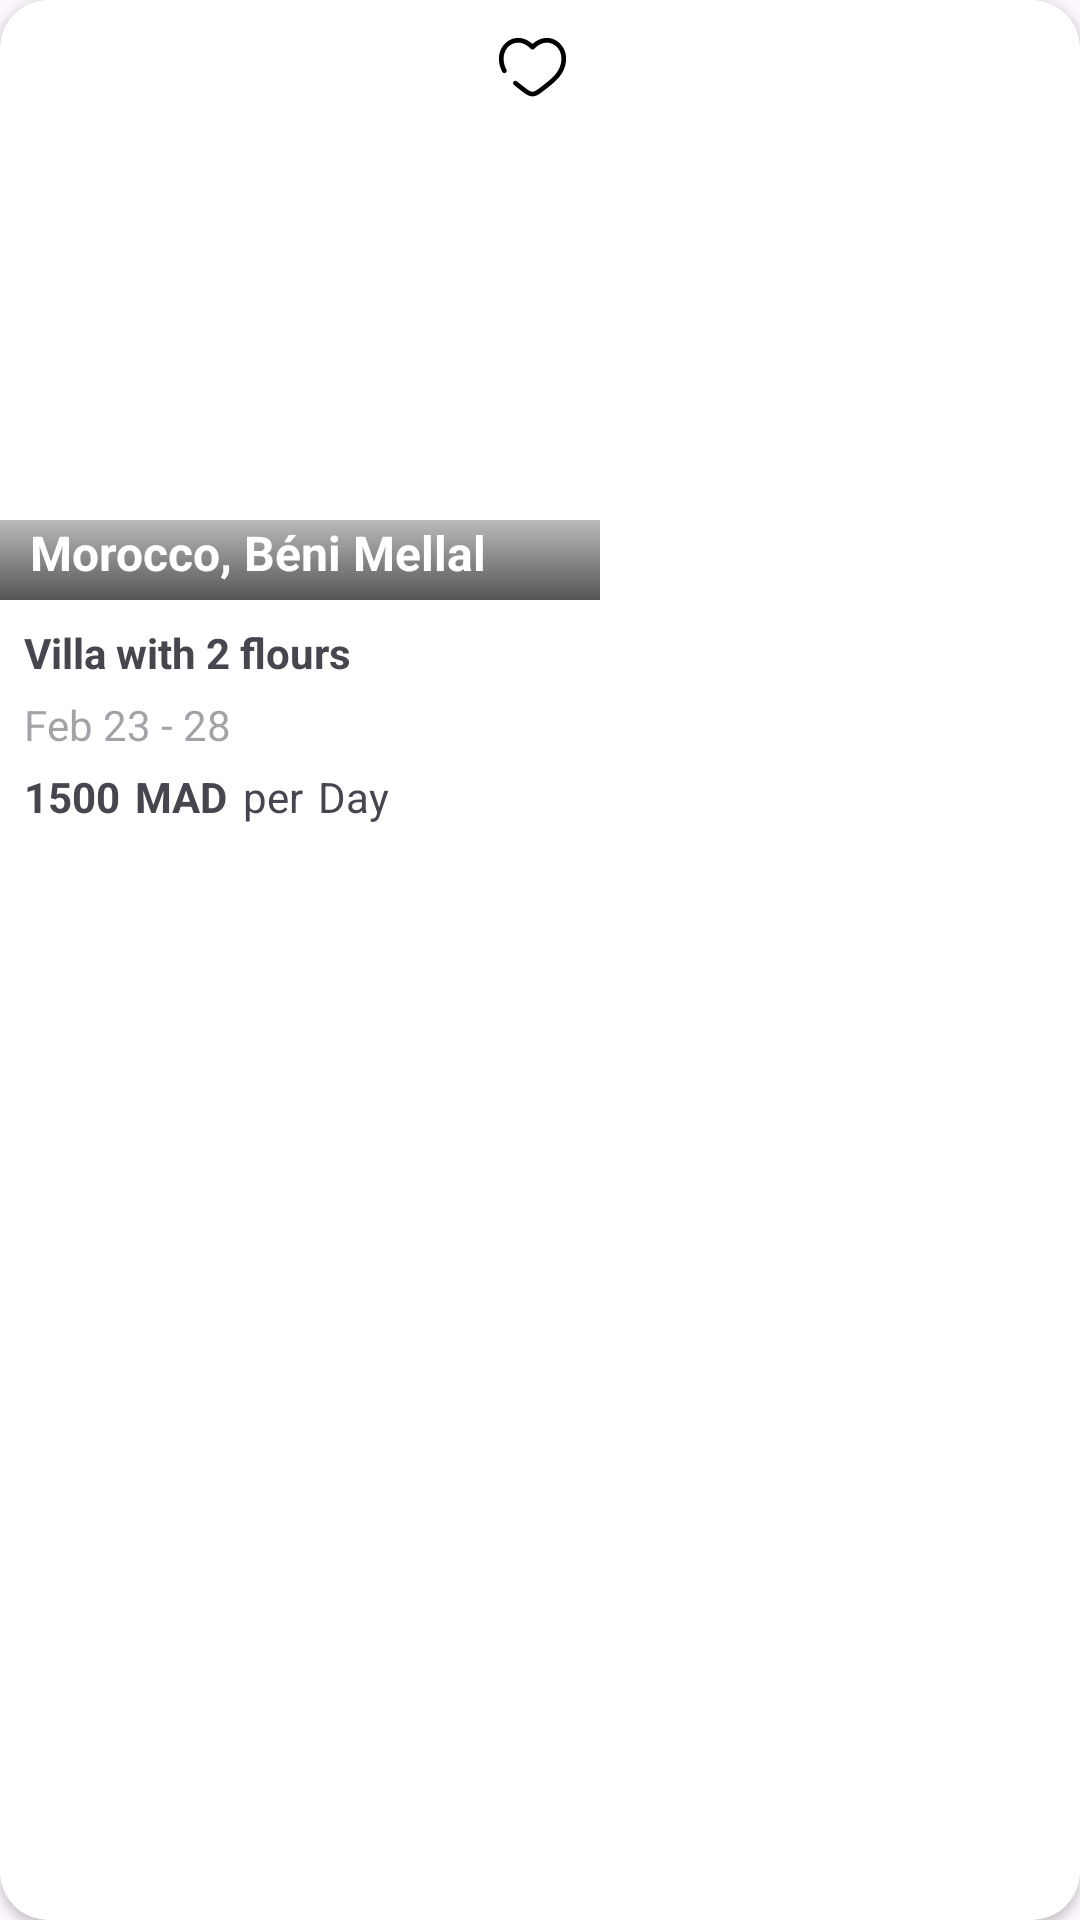

Locate icon controls on the screen. Image size 1080×1920, boxes as (x1, y1, x2, y2).
heart: (499, 38, 566, 97)
